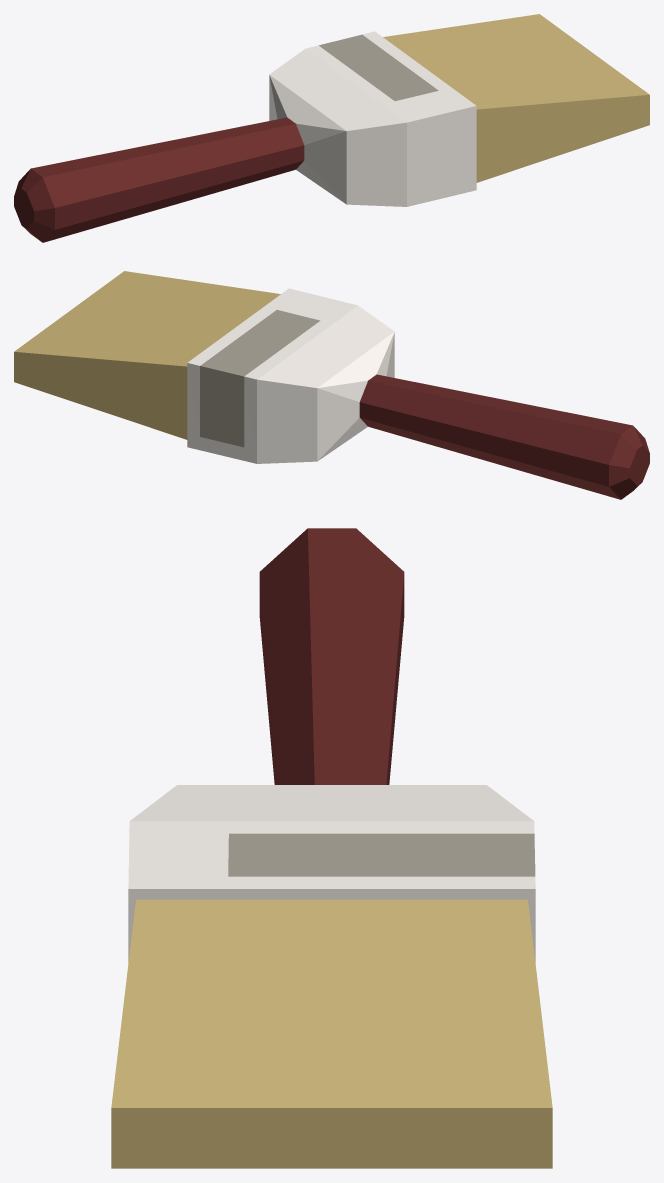
The model's file is SM_brush.gltf.
3 views of the same model, one above another, from view 1: azimuth 30°, elevation 25°; view 2: azimuth 150°, elevation 25°; view 3: azimuth 270°, elevation 25° (orthographic). The views are drawn at different scales.
Visible parts, largest first — view 1: SM_brush; view 2: SM_brush; view 3: SM_brush.
Boxes of the visible parts, x1,y1,x2,y2 form: SM_brush: (14, 14, 649, 242); SM_brush: (14, 271, 649, 499); SM_brush: (111, 528, 552, 1168).
Bounding box in the file's own units: 0.6289 × 0.0889 × 0.2106.
Materials: 1 (1 with a texture image).
